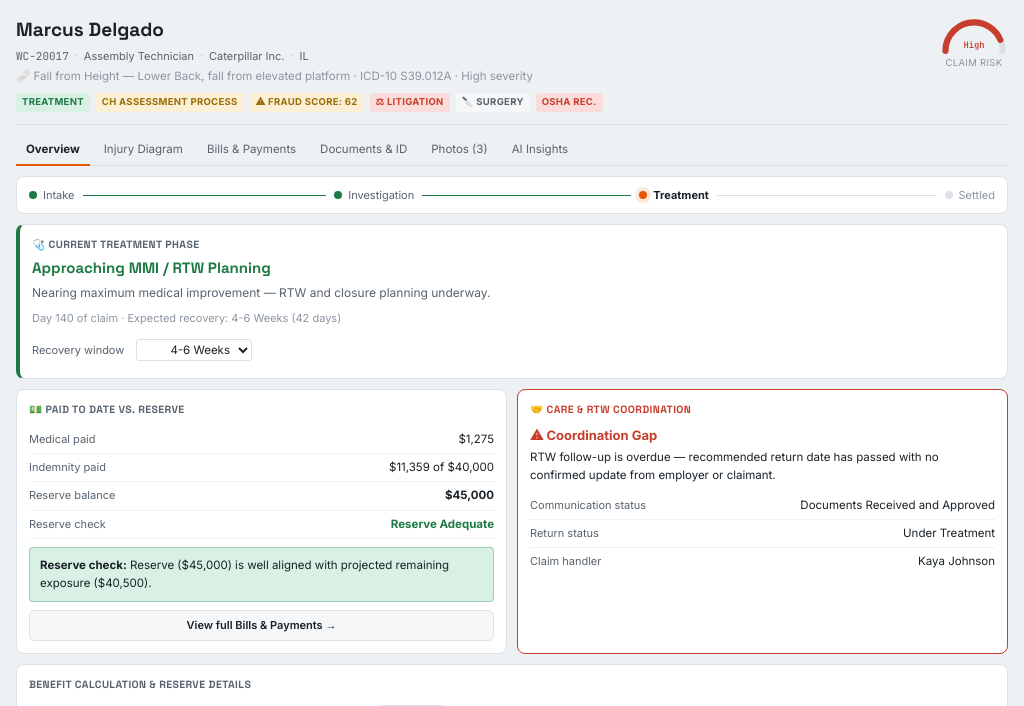
the forms card renders the path's banner and one row per form
This screenshot has width=1024, height=706.
Click the tab with test id "tab-documents": (364, 150) top-left (310, 134), bottom-right (417, 166)
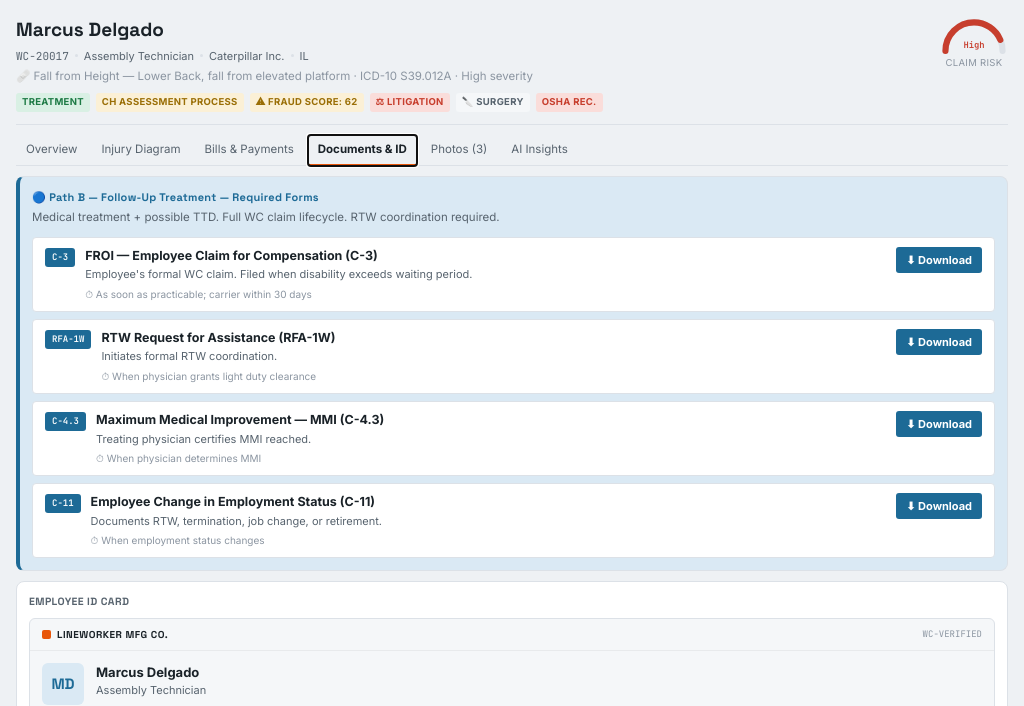
expect the heading with test id "required-forms-banner" shows "Path B — Follow-Up Treatment": met, box top-left (49, 190), bottom-right (217, 204)
expect the list item with test id "required-form" shows "FROI — Employee Claim for Compensation (C-3)": met, box top-left (85, 248), bottom-right (378, 262)
expect the list item with test id "required-form" shows "carrier within 30 days": met, box top-left (96, 288), bottom-right (312, 300)
